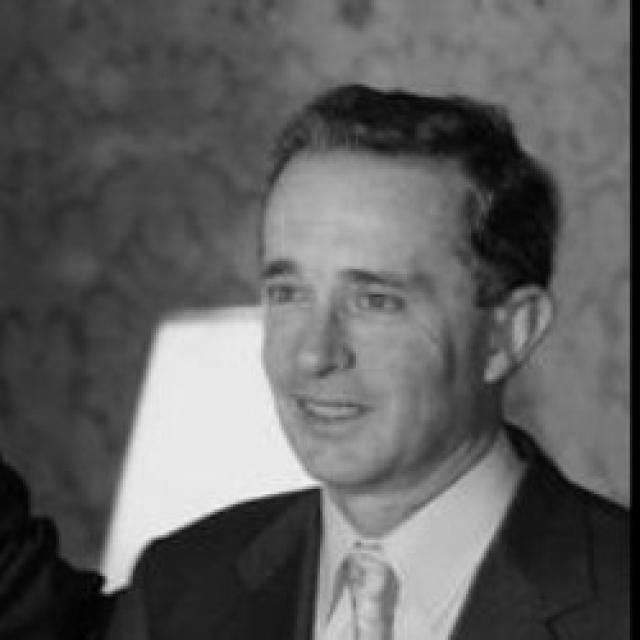real: (247, 134, 505, 496), (262, 273, 410, 328)
